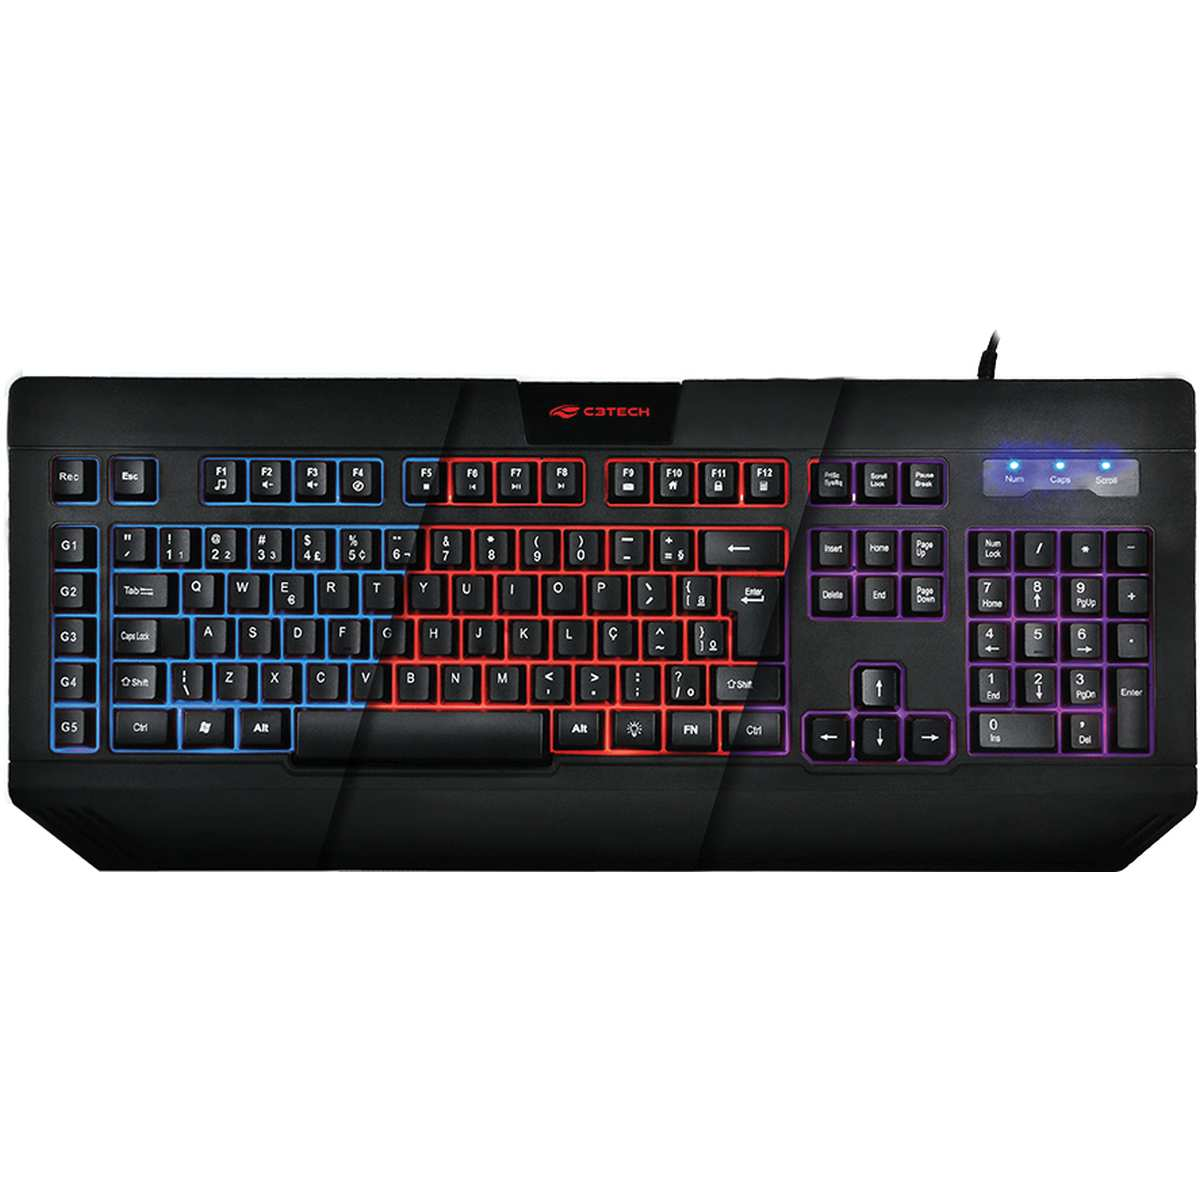keyboard: (4, 375, 1198, 876)
